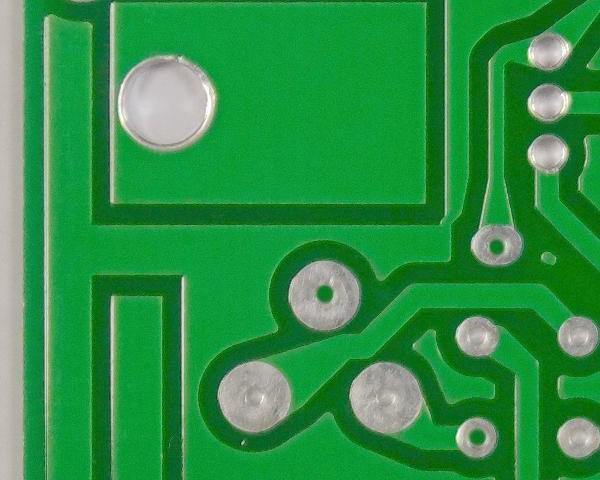missing hole: (285, 262, 361, 334), (467, 222, 530, 271), (453, 414, 500, 460)
